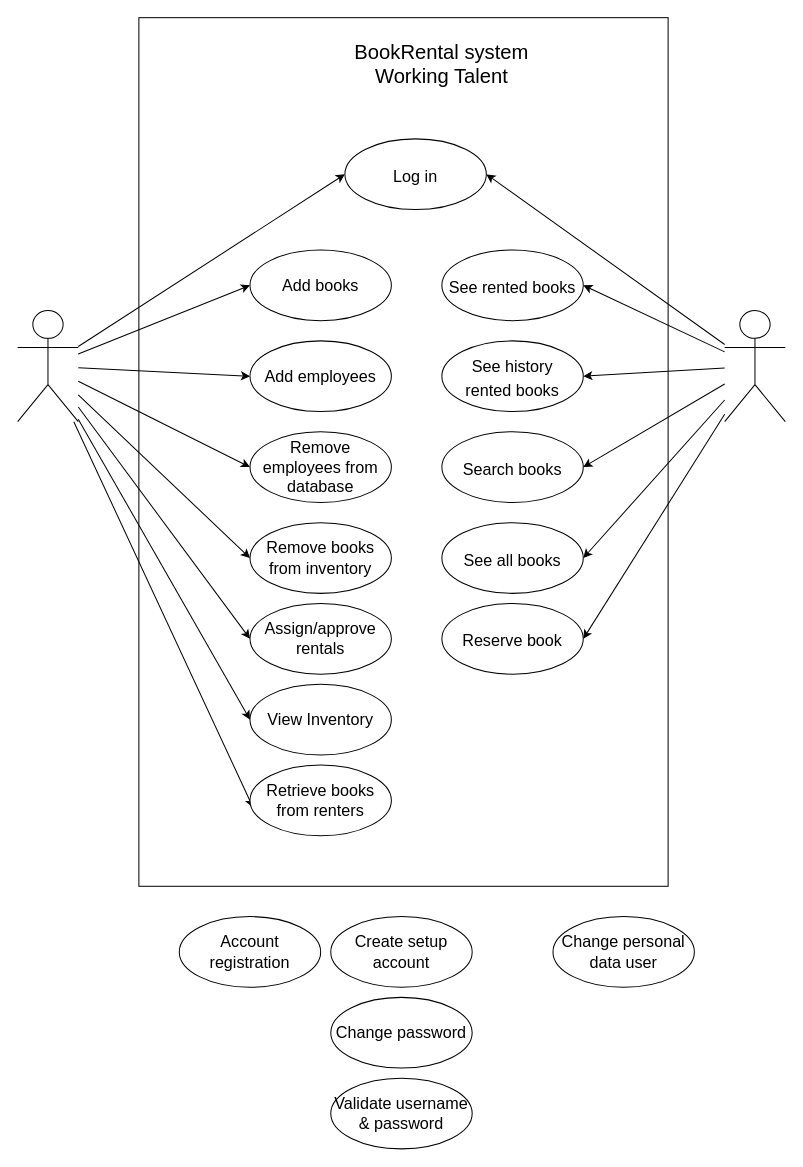
The diagram is 803 pixels wide and 1167 high, and some of its shapes have lost their labels. The box of each missing label's shape, as (x1, y1, x2, y2) in pixels:
Admin: (17, 310, 78, 422)
User: (724, 310, 785, 422)
